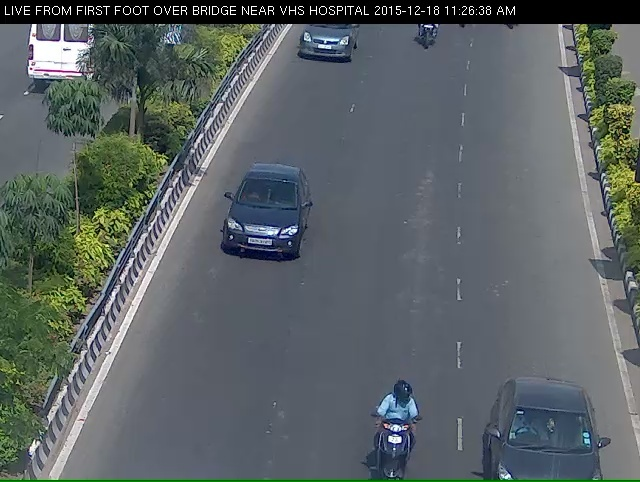Car: (477, 392, 619, 479), (213, 172, 309, 274), (287, 20, 364, 72)
Person: (363, 400, 419, 479)
